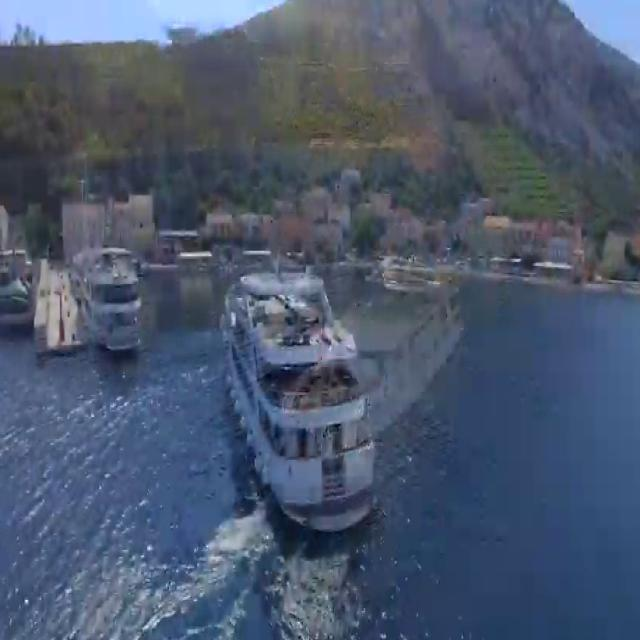passenger ship: (217, 249, 371, 527), (80, 240, 140, 346)
